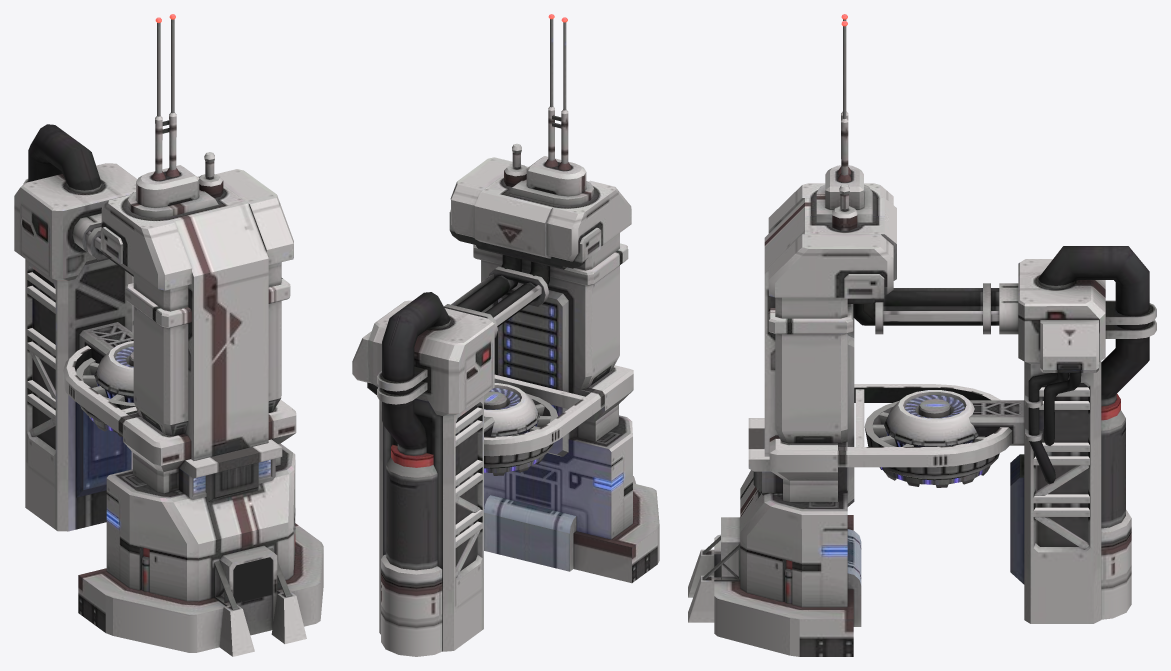
3 views of the same model, side by side, from view 1: azimuth 30°, elevation 25°; view 2: azimuth 150°, elevation 25°; view 3: azimuth 270°, elevation 25° (orthographic). The views are drawn at different scales.
Parts seen in each view (by area): view 1: oil-extractor; view 2: oil-extractor; view 3: oil-extractor.
Part boxes in pixels (x1,y1,x2,y2): oil-extractor: (14, 14, 323, 656); oil-extractor: (352, 14, 659, 656); oil-extractor: (688, 14, 1156, 656).
Bounding box in the file's own units: 6.51 × 16.7 × 12.35.
2 materials, 1 textured.
